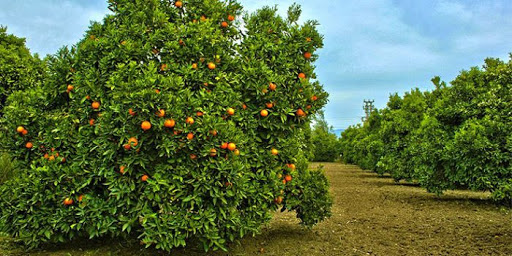portakal: (137, 120, 152, 132), (207, 60, 220, 72), (260, 109, 270, 118), (297, 105, 304, 117)
